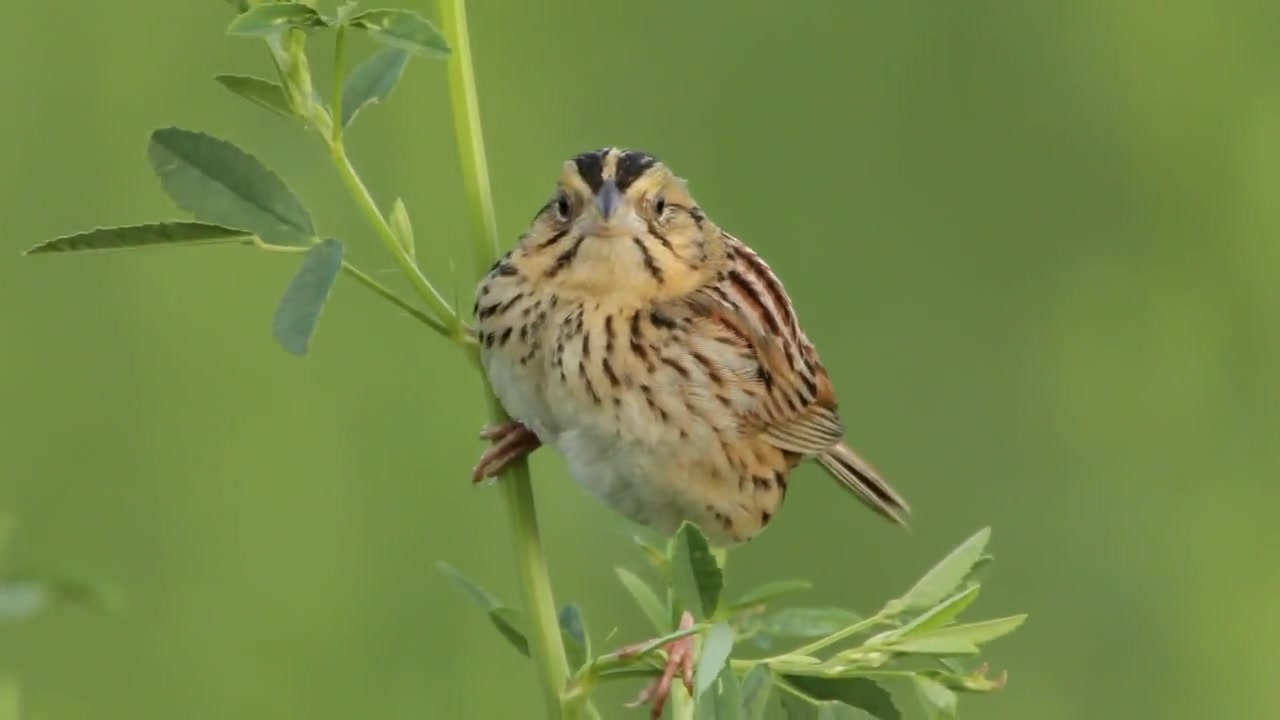bird: (470, 148, 916, 718)
